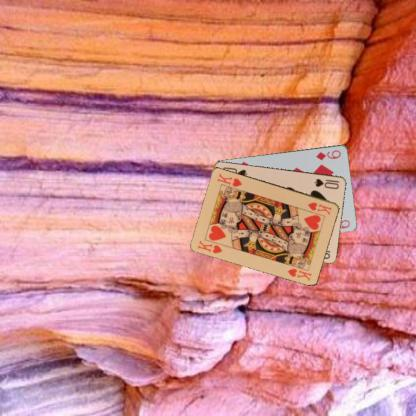10s: (312, 176, 341, 190)
9d: (313, 148, 342, 162)
Kh: (195, 237, 224, 255), (306, 199, 333, 216)
